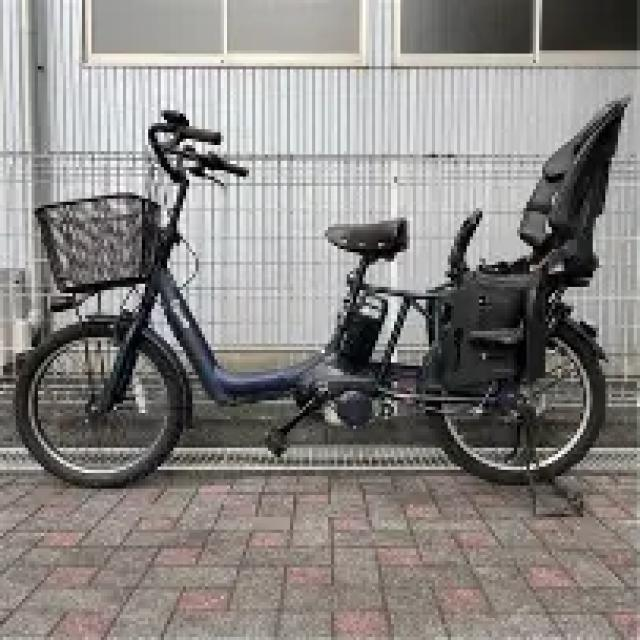basket: (34, 194, 164, 290)
battery: (333, 295, 387, 373)
childseat: (425, 89, 631, 397)
